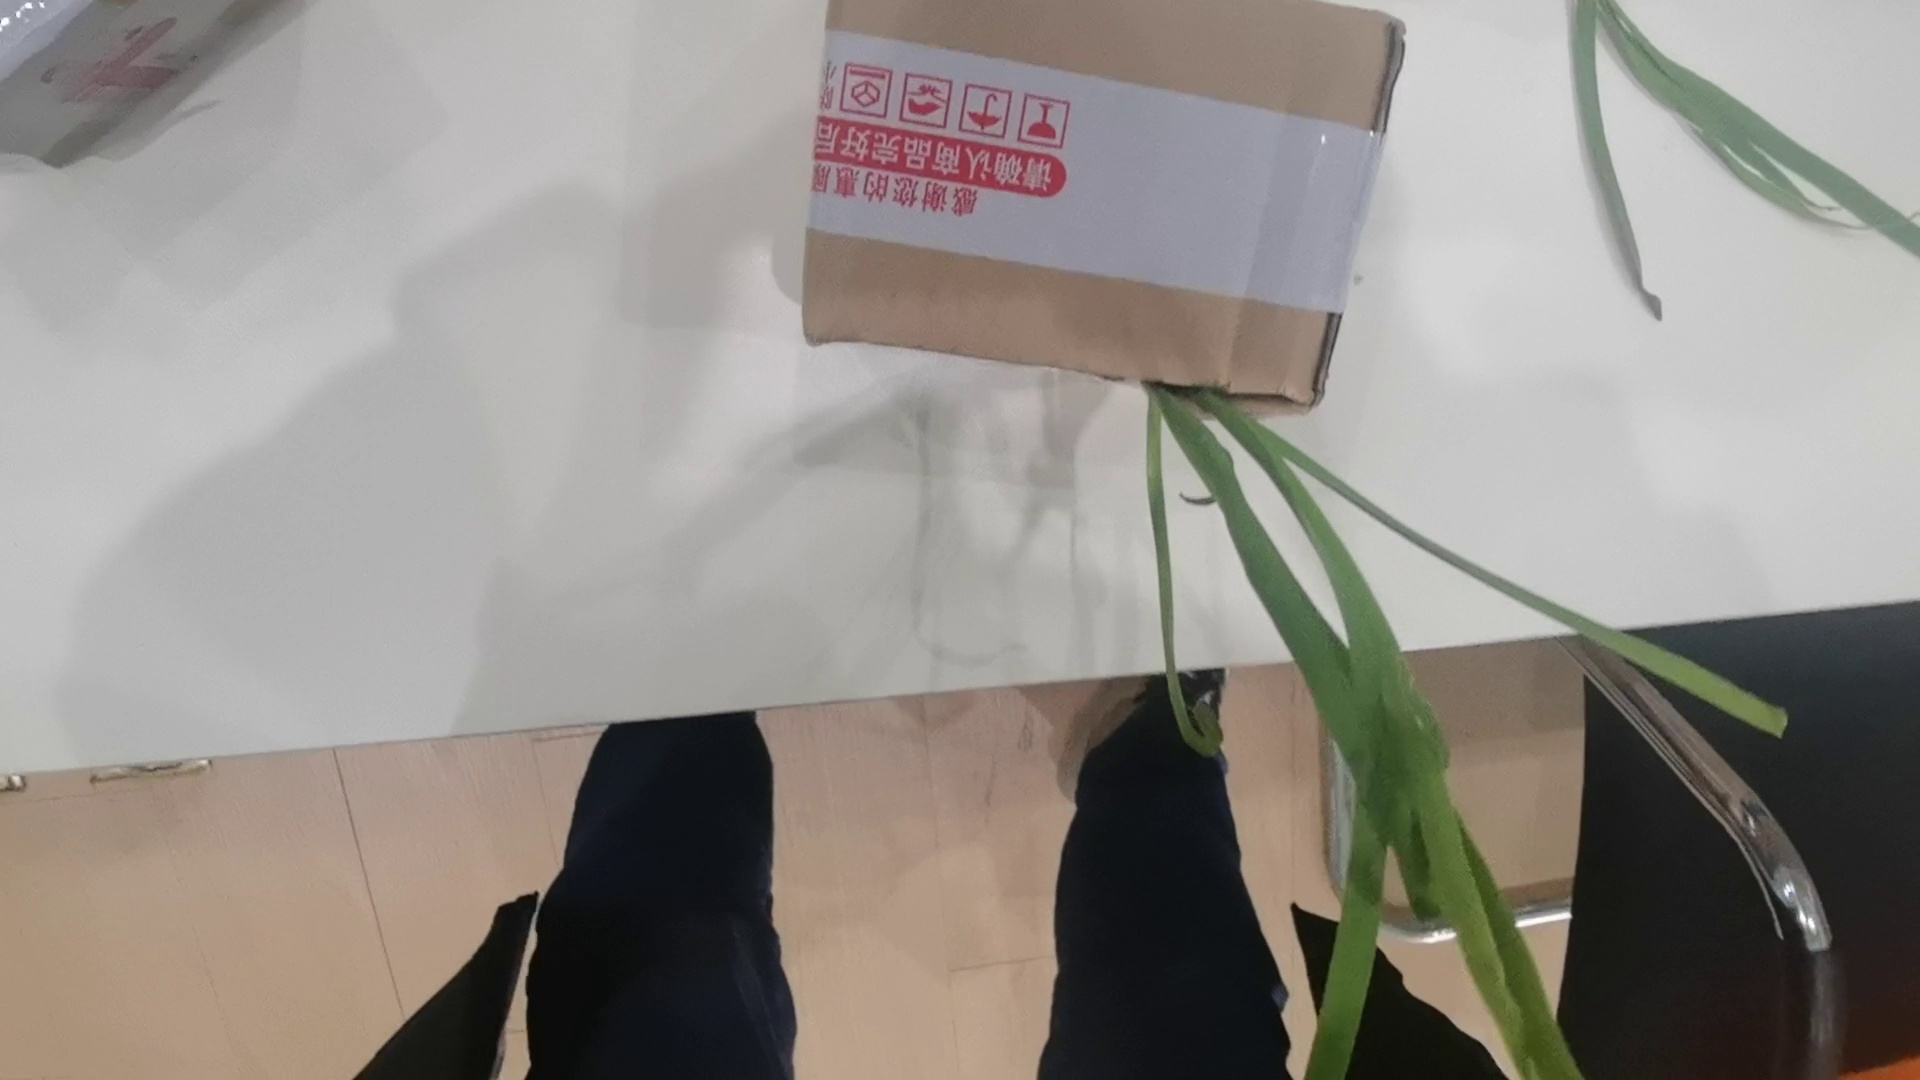chives: (1108, 377, 1869, 1080), (1565, 1, 1920, 336)
